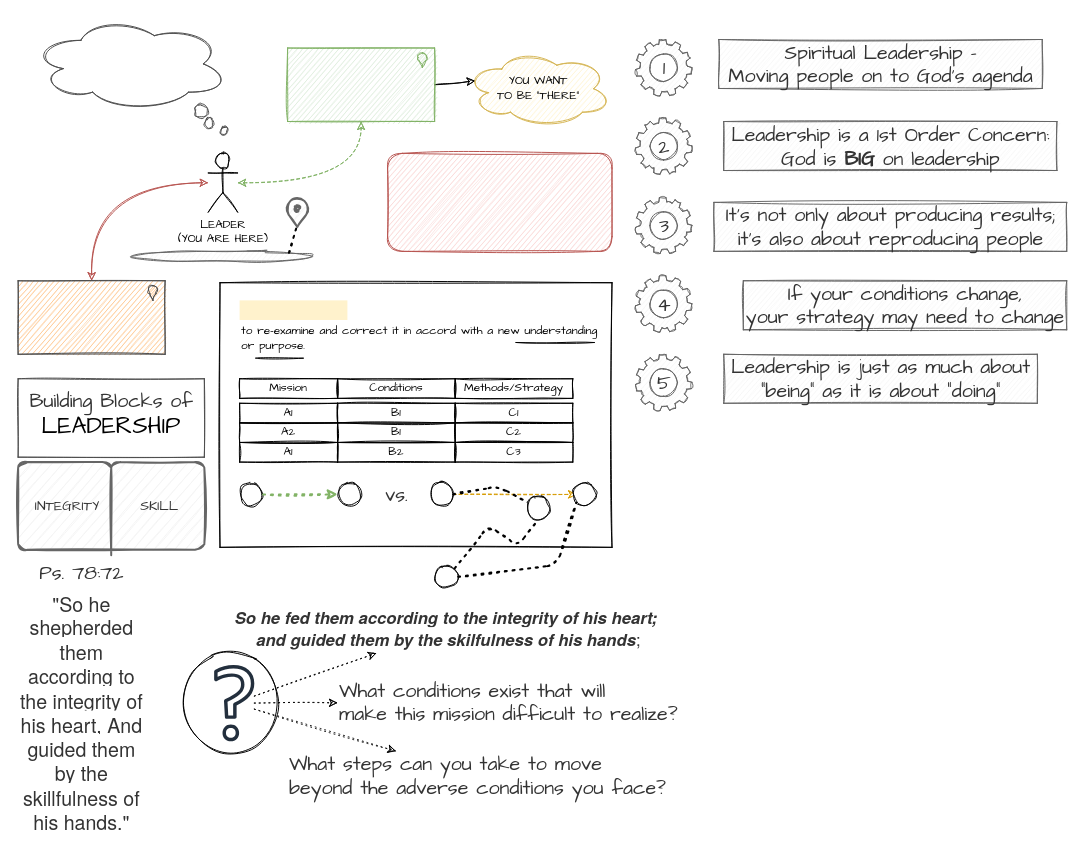
Some shapes in this 1084 by 852 pixel diagram are drawn without their labels. Each missing label, with the centre of its shape:
"6% of leaders believe they are gifted to lead." goes at point (499, 201).
"FUTURE SKILLS" goes at point (361, 84).
"PAST SKILLS" goes at point (91, 317).
"re-calibrate" goes at point (293, 309).
"What got you here... won't get you there!" goes at point (129, 63).
